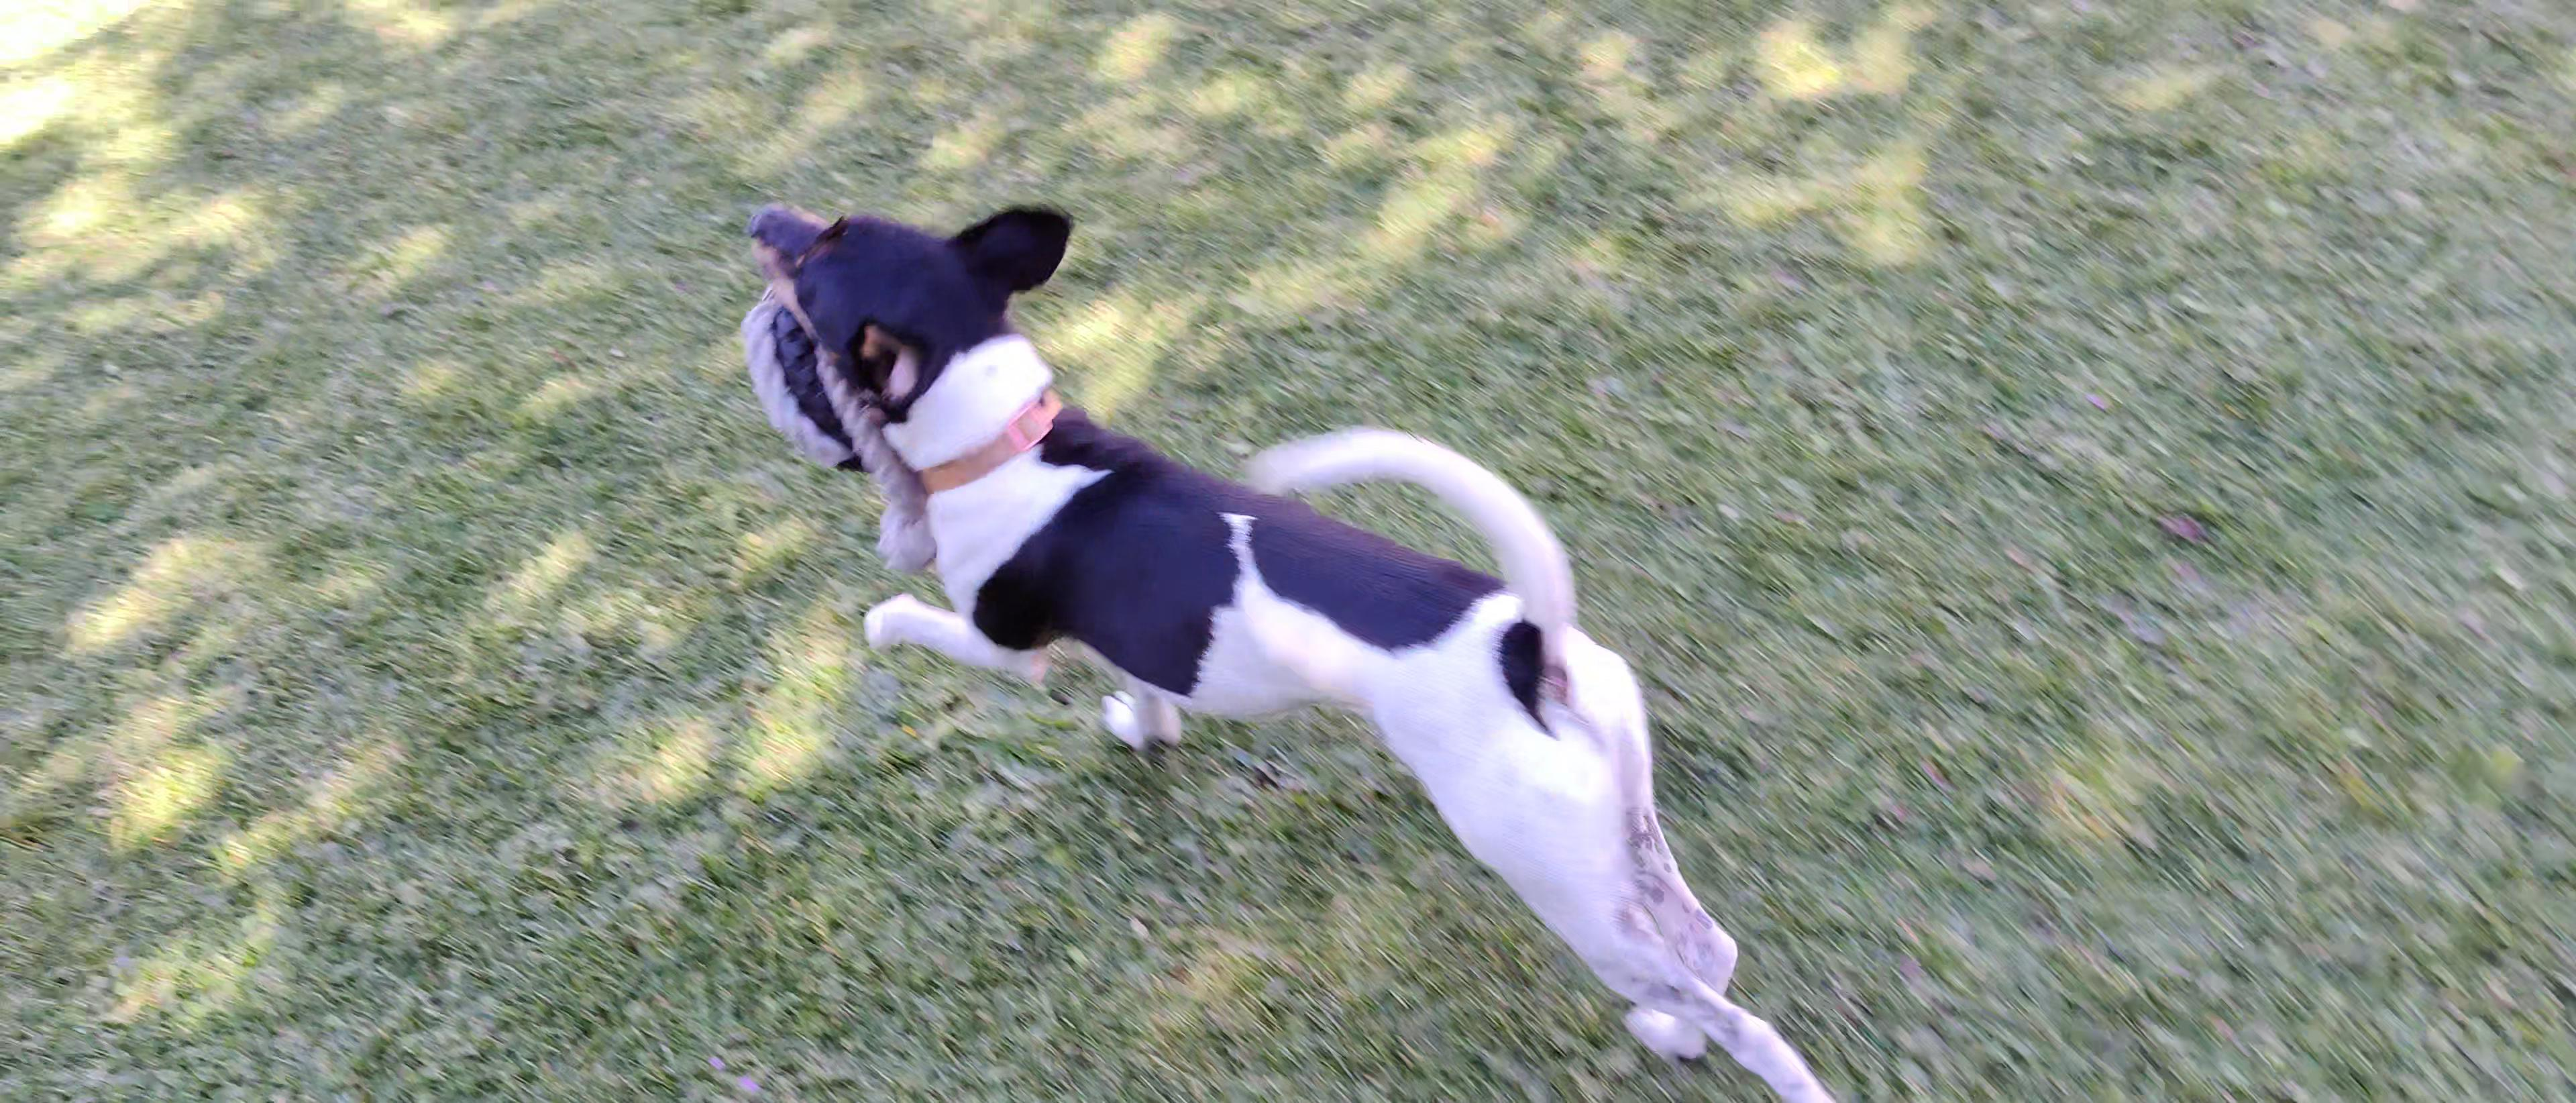Dog: (739, 189, 1845, 1103)
